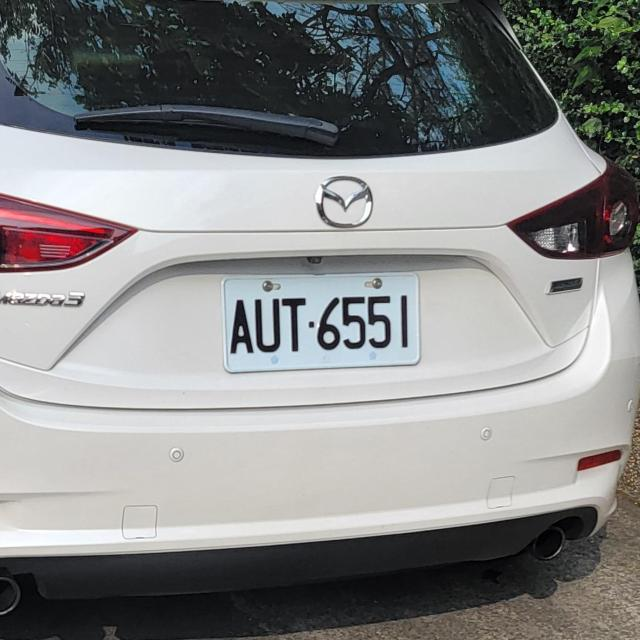W: (216, 265, 425, 383)
